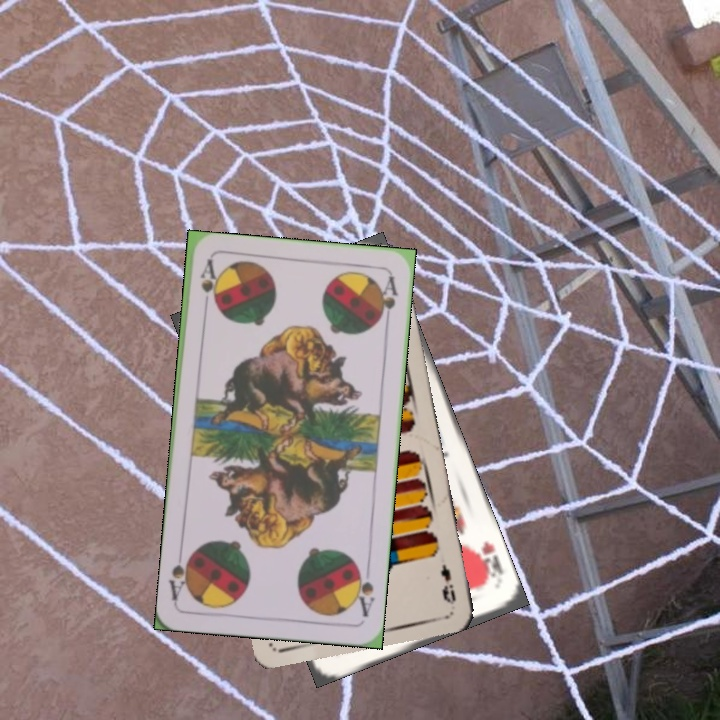E9: (436, 559, 459, 607)
HK: (469, 536, 506, 587)
SA: (350, 561, 378, 620), (196, 257, 218, 316)
